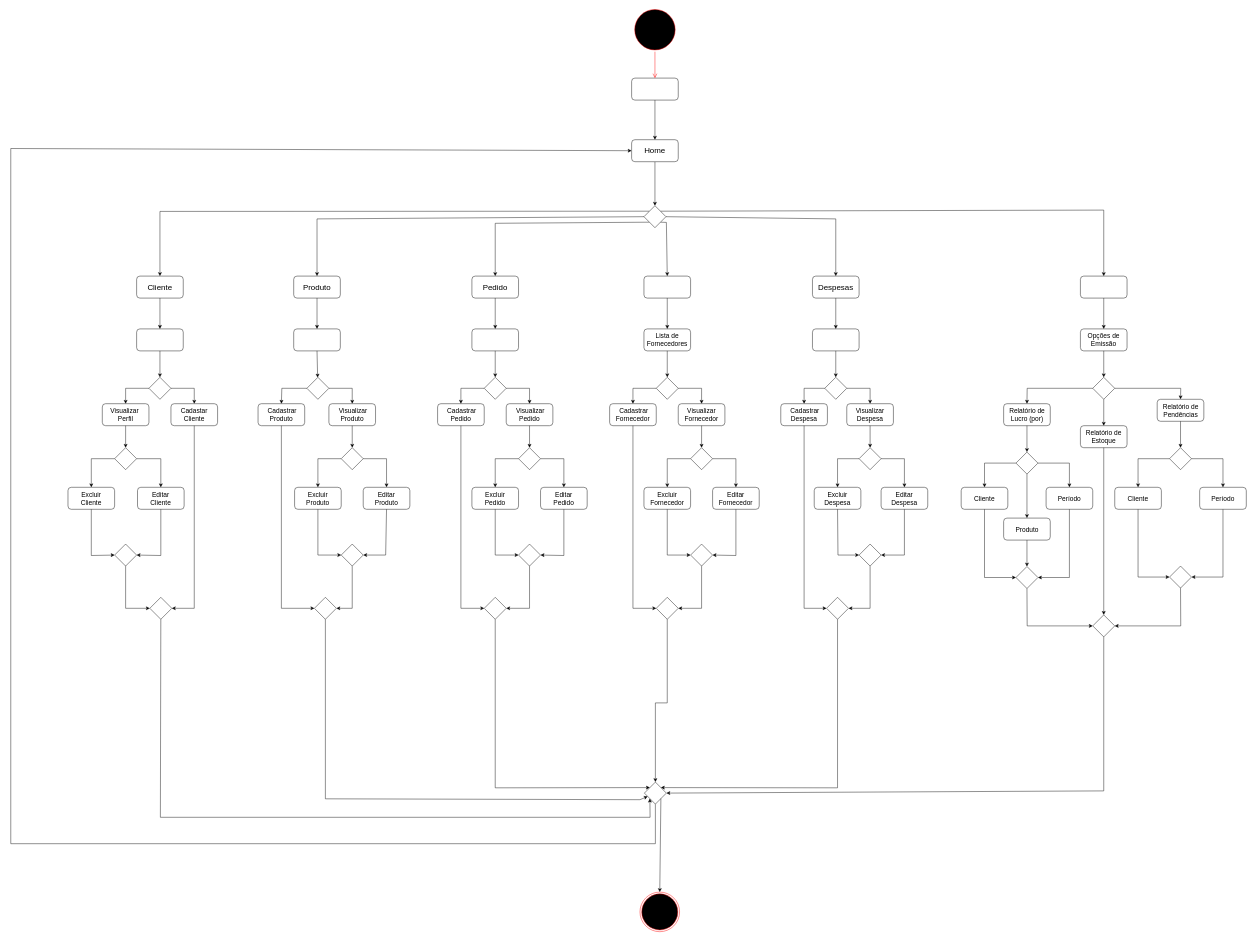
Some shapes in this 1254 by 939 pixel diagram are drawn without their labels. The shapes that lost their labels are listed below. From the top down, each one's box as (x1, y1, x2, y2) in pixels, then its label:
(631, 78, 678, 100): Login
(644, 276, 691, 298): Fornecedor
(1080, 276, 1127, 298): Relatórios
(136, 328, 183, 351): Lista de Clientes
(293, 328, 340, 351): Lista de Produtos
(471, 328, 519, 351): Lista de Pedidos
(812, 328, 859, 351): Lista de Despesas
